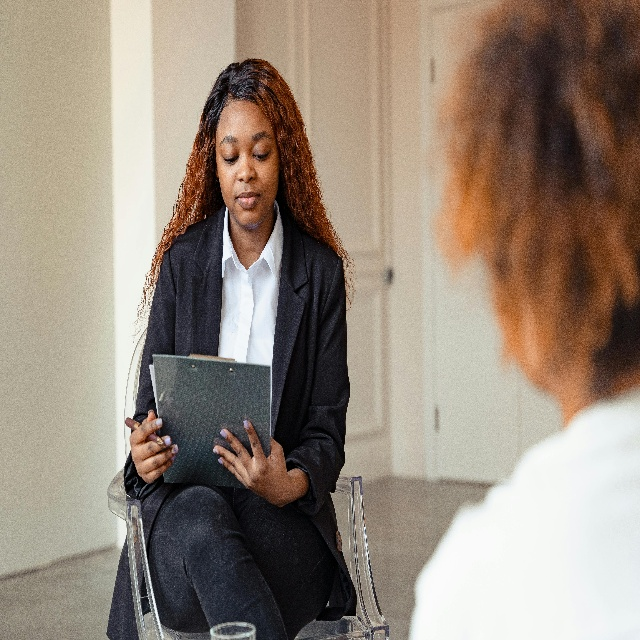Sin_guantes: (212, 420, 289, 509), (129, 409, 179, 484)
